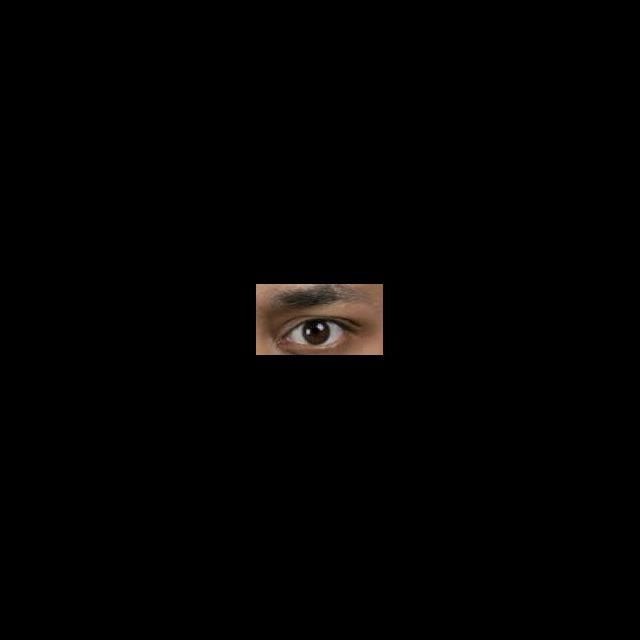eye: (291, 321, 345, 345)
iris: (303, 322, 331, 344)
